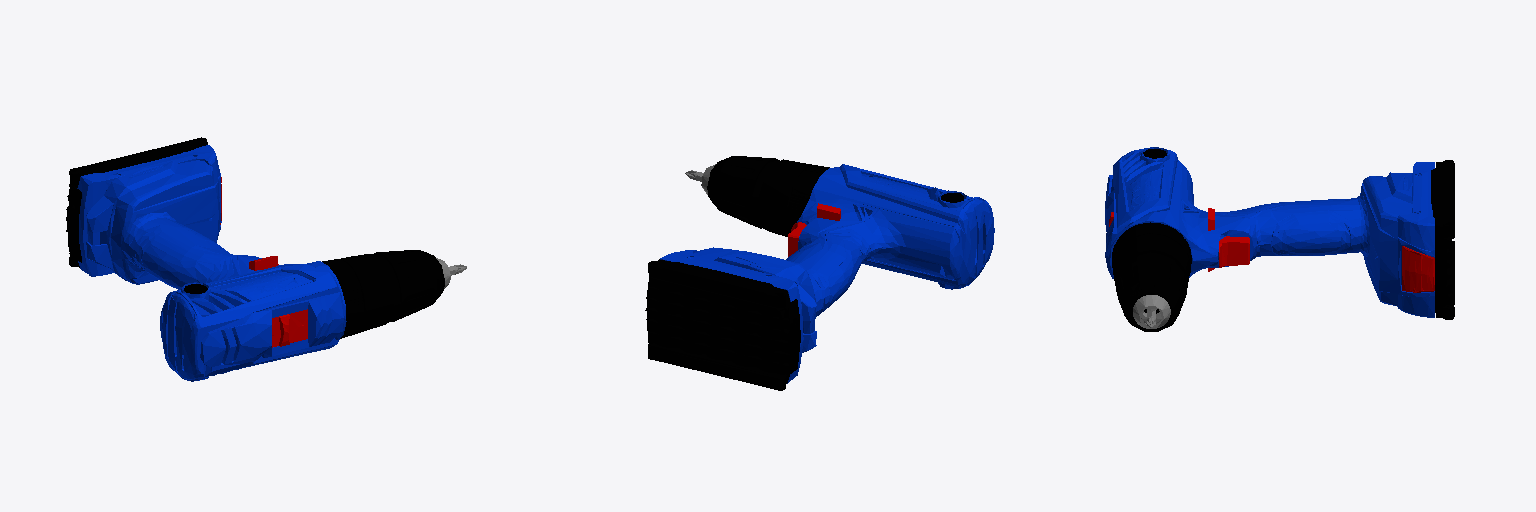
File: downsampled_16k.obj
3 renders of one model, left to right at view 1: azimuth 30°, elevation 25°; view 2: azimuth 150°, elevation 25°; view 3: azimuth 270°, elevation 25°, orthographic.
Visible parts, largest first — view 1: base_imagetostl_mesh0.005; view 2: base_imagetostl_mesh0.005; view 3: base_imagetostl_mesh0.005.
Part boxes in pixels (bbox=[...]): base_imagetostl_mesh0.005: bbox=[66, 137, 466, 381]; base_imagetostl_mesh0.005: bbox=[645, 156, 994, 390]; base_imagetostl_mesh0.005: bbox=[1105, 147, 1454, 331].
Size of the model in its own units: 0.2268 by 0.0766 by 0.2346.